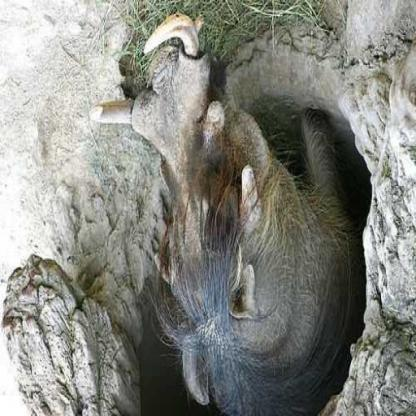boar: (113, 3, 372, 416)
